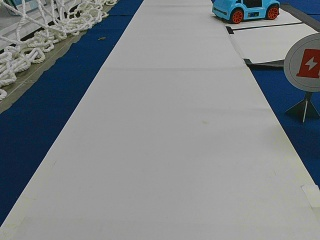battery: (284, 33, 319, 92)
car: (213, 0, 280, 22)
